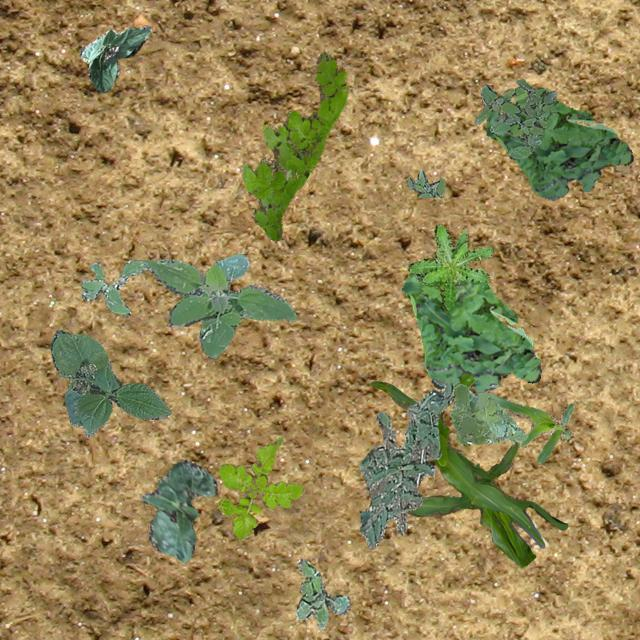crop: (368, 372, 566, 566), (50, 328, 170, 436), (140, 460, 216, 560), (486, 391, 572, 462), (78, 24, 150, 92)
weed: (242, 51, 346, 240), (400, 272, 540, 392), (486, 86, 632, 200), (142, 254, 296, 358), (358, 382, 452, 548), (216, 436, 304, 540), (408, 224, 492, 308), (472, 78, 556, 158), (448, 382, 526, 444), (294, 558, 348, 630), (80, 258, 146, 316), (404, 170, 444, 197), (430, 378, 498, 388)
